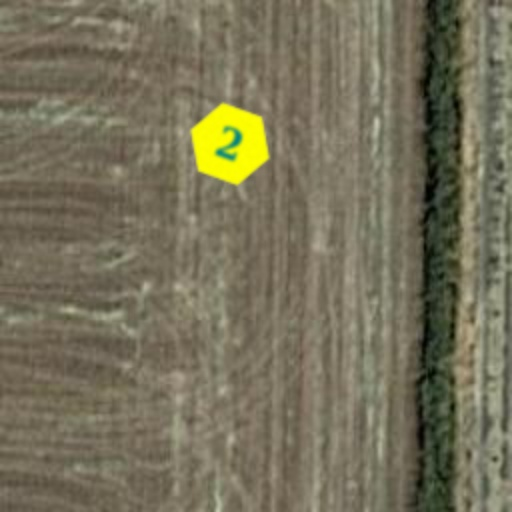hexagon: (176, 90, 284, 198)
